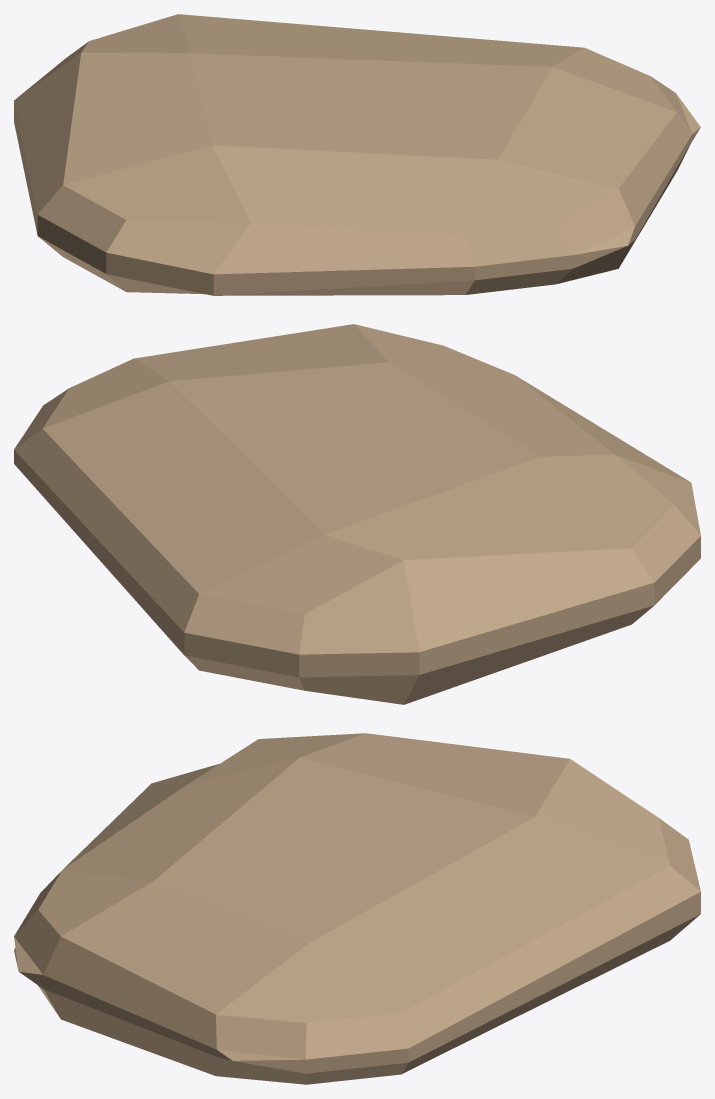
Rendered from rock_14.FBX.
3 views of the same model, one above another, from view 1: azimuth 30°, elevation 25°; view 2: azimuth 150°, elevation 25°; view 3: azimuth 270°, elevation 25° (orthographic). The views are drawn at different scales.
Parts seen in each view (by area): view 1: Box014; view 2: Box014; view 3: Box014.
Part boxes in pixels (x1,y1,x2,y2): Box014: [14, 14, 700, 295]; Box014: [14, 324, 700, 704]; Box014: [14, 733, 700, 1084].
Size of the model in its own units: 1465 by 324 by 1381.
